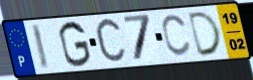7: (121, 13, 153, 64)
C: (93, 16, 129, 68), (160, 13, 193, 59)
D: (187, 9, 225, 58)
G: (57, 20, 93, 69)
I: (29, 23, 51, 72)
